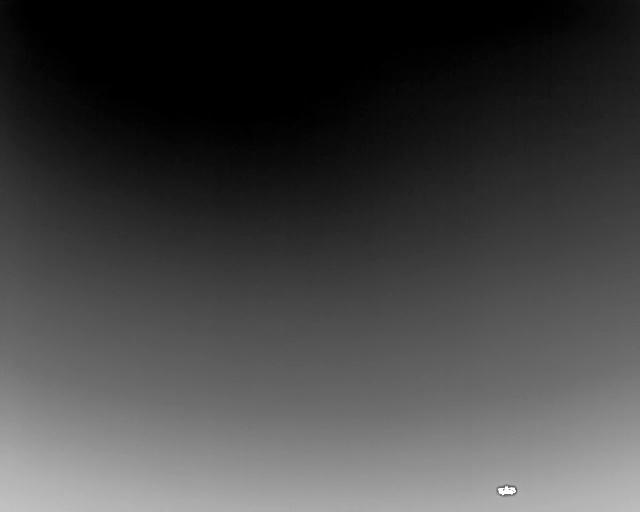fpv-drone: (496, 485, 517, 496)
